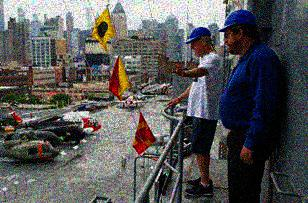helmet: (217, 8, 258, 55), (184, 27, 213, 58)
